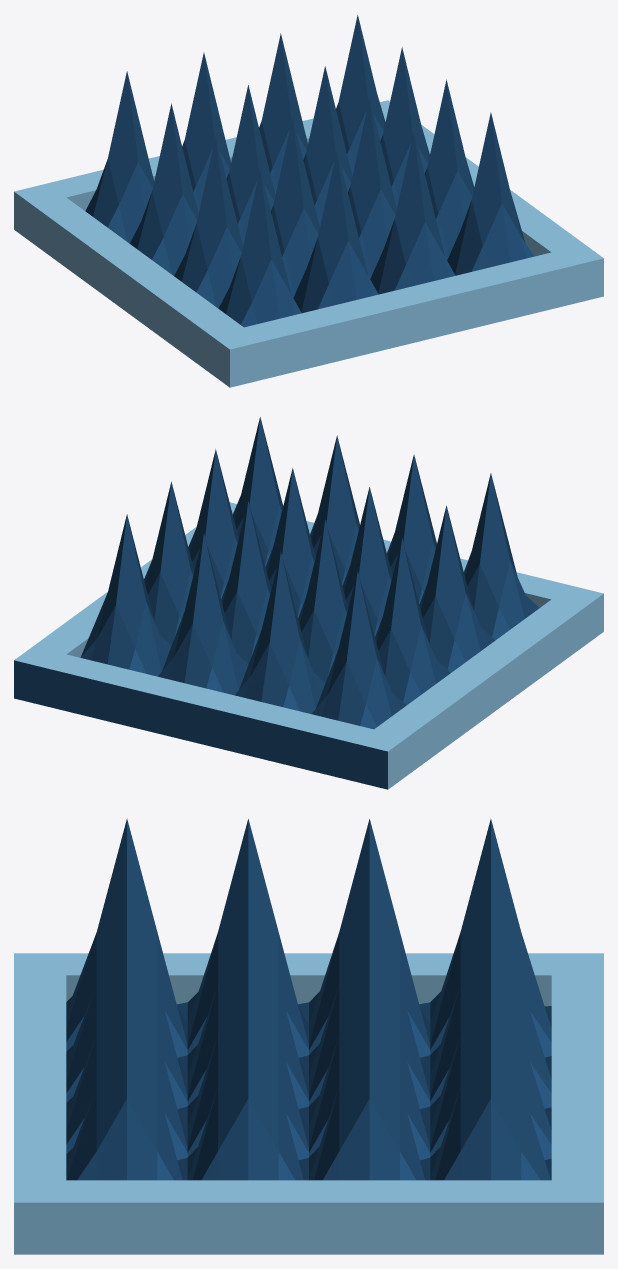
The model's file is spikes.fbx.
3 renders of one model, top to bottom at view 1: azimuth 30°, elevation 25°; view 2: azimuth 150°, elevation 25°; view 3: azimuth 270°, elevation 25°, orthographic. The views are drawn at different scales.
Visible parts, largest first — view 1: Cube.038; view 2: Cube.038; view 3: Cube.038.
Boxes of the visible parts, box(x1,y1,x2,y2) form: Cube.038: box(14, 15, 603, 387); Cube.038: box(14, 417, 603, 789); Cube.038: box(14, 819, 603, 1254).
Bounding box in the file's own units: 300 × 132 × 300.
